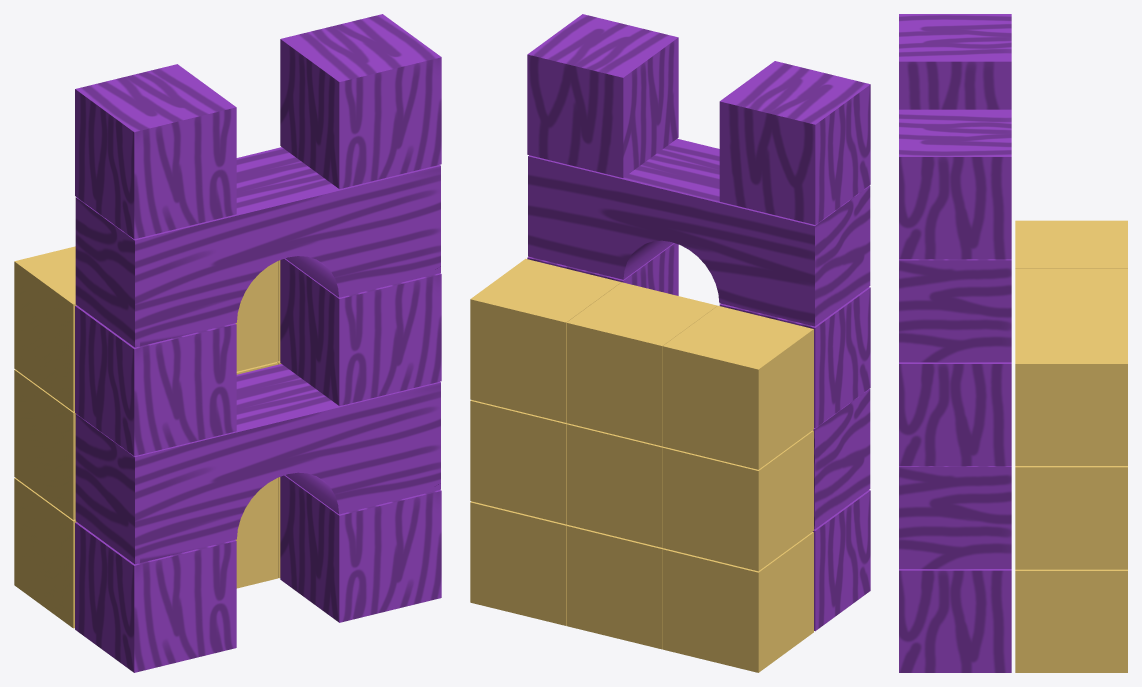
File: Level1-5-TopPart.fbx
3 renders of one model, left to right at view 1: azimuth 30°, elevation 25°; view 2: azimuth 150°, elevation 25°; view 3: azimuth 270°, elevation 25°, orthographic. The views are drawn at different scales.
Visible parts, largest first — view 1: Cube.004, Cube.001, Cube.007, Cube.008, Cube.005, Cube.002, Cube.003, Cube.006, Cube.016, Cube.013, Cube.010, Cube.009 (+1 smaller); view 2: Cube.004, Cube.016, Cube.008, Cube.007, Cube.010, Cube.013, Cube.017, Cube.015, Cube.011, Cube.009, Cube.012, Cube.014 (+4 smaller); view 3: Cube.008, Cube.017, Cube.006, Cube.003, Cube.004, Cube.011, Cube.014, Cube.001, Cube.007, Cube.015, Cube.016.
Part boxes in pixels (x1,y1,x2,y2): Cube.004: [75, 147, 440, 347]; Cube.001: [75, 364, 440, 564]; Cube.007: [75, 64, 236, 239]; Cube.008: [280, 14, 441, 189]; Cube.005: [75, 305, 236, 456]; Cube.002: [75, 522, 236, 672]; Cube.003: [280, 475, 441, 622]; Cube.006: [280, 258, 441, 405]; Cube.016: [14, 246, 76, 411]; Cube.013: [14, 369, 75, 519]; Cube.010: [14, 478, 76, 628]; Cube.009: [235, 478, 278, 588]; Cube.004: [528, 138, 870, 326]; Cube.016: [662, 305, 813, 469]; Cube.008: [527, 14, 678, 177]; Cube.007: [719, 61, 870, 224]; Cube.010: [662, 532, 813, 672]; Cube.013: [662, 430, 813, 571]; Cube.017: [470, 258, 621, 422]; Cube.015: [566, 282, 717, 446]; Cube.011: [470, 501, 567, 625]; Cube.009: [566, 525, 663, 649]; Cube.012: [566, 423, 663, 547]; Cube.014: [470, 400, 567, 524]; Cube.008: [899, 109, 1011, 259]; Cube.017: [1015, 316, 1127, 465]; Cube.006: [899, 362, 1011, 466]; Cube.003: [899, 569, 1011, 672]; Cube.004: [899, 259, 1011, 362]; Cube.011: [1015, 569, 1127, 672]; Cube.014: [1015, 466, 1127, 569]; Cube.001: [899, 466, 1011, 568]; Cube.007: [899, 14, 1011, 109]; Cube.015: [1015, 268, 1127, 316]; Cube.016: [1015, 220, 1127, 268].
Size of the model in its own units: 602 by 1010 by 406.
